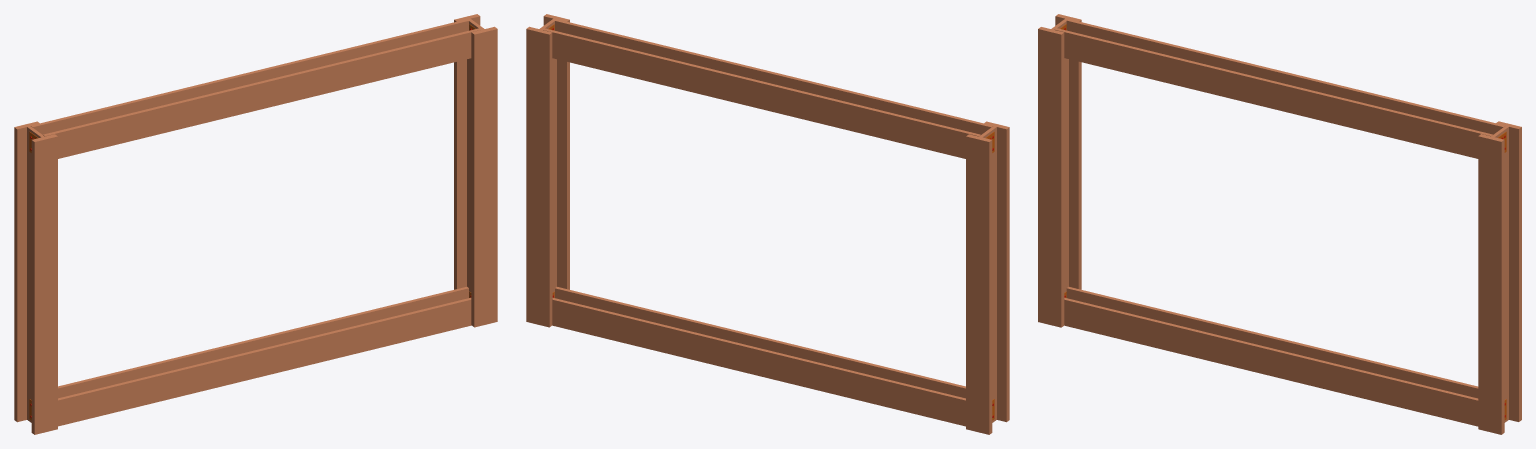
File: SteelSupport.fbx
3 renders of one model, left to right at view 1: azimuth 30°, elevation 25°; view 2: azimuth 150°, elevation 25°; view 3: azimuth 330°, elevation 25°, orthographic.
Parts seen in each view (by area): view 1: SteelGirder.003, SteelGirder.006, SteelGirder.008, SteelGirder.007; view 2: SteelGirder.003, SteelGirder.006, SteelGirder.008, SteelGirder.007; view 3: SteelGirder.003, SteelGirder.006, SteelGirder.007, SteelGirder.008.
Boxes of the visible parts, x1,y1,x2,y2 form: SteelGirder.003: (31, 19, 480, 158); SteelGirder.006: (58, 287, 471, 426); SteelGirder.008: (14, 121, 57, 434); SteelGirder.007: (454, 14, 497, 327); SteelGirder.003: (543, 19, 992, 158); SteelGirder.006: (552, 287, 965, 426); SteelGirder.008: (966, 121, 1009, 434); SteelGirder.007: (526, 14, 569, 327); SteelGirder.003: (1054, 19, 1505, 158); SteelGirder.006: (1064, 287, 1478, 426); SteelGirder.007: (1478, 121, 1521, 434); SteelGirder.008: (1038, 14, 1081, 327).
Bounding box in the file's own units: 330 × 200 × 25.21.
